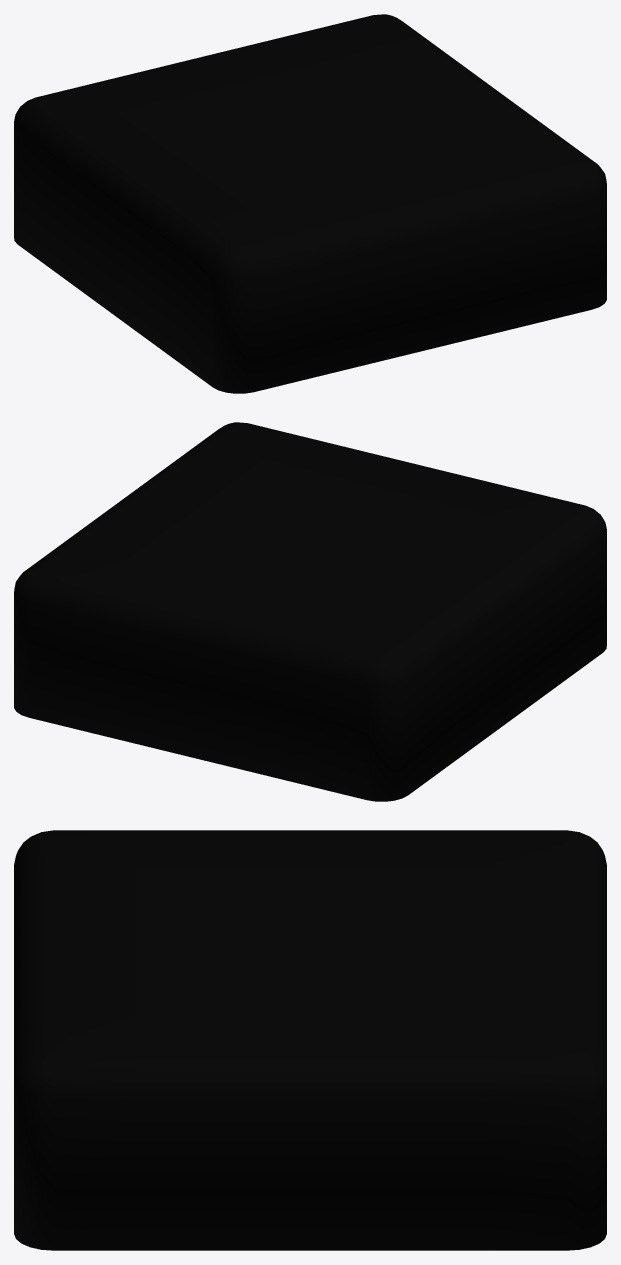
The model's file is Dome.glb.
3 renders of one model, top to bottom at view 1: azimuth 30°, elevation 25°; view 2: azimuth 150°, elevation 25°; view 3: azimuth 270°, elevation 25°, orthographic. The views are drawn at different scales.
Visible parts, largest first — view 1: Domo; view 2: Domo; view 3: Domo.
Boxes of the visible parts, x1,y1,x2,y2 form: Domo: (14, 14, 606, 393); Domo: (14, 422, 606, 801); Domo: (14, 830, 606, 1250).
Size of what is drawn, in the model's own units: 56 by 19.02 by 56.
1 material, 1 textured.
